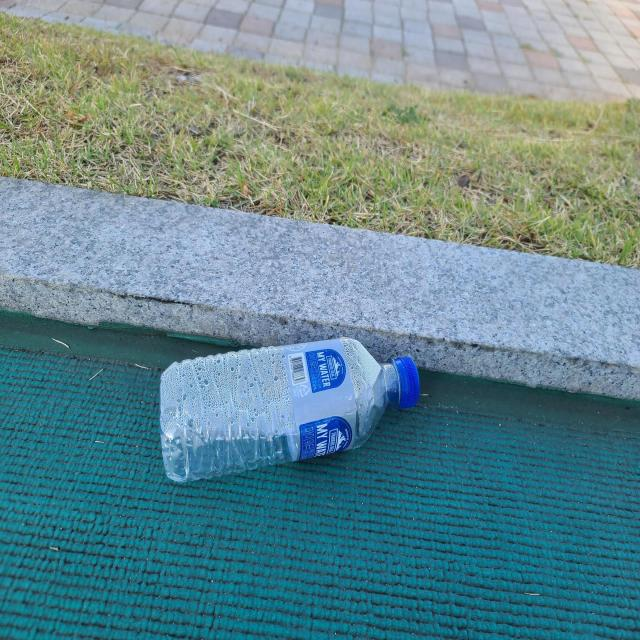plastic: (160, 338, 420, 483)
